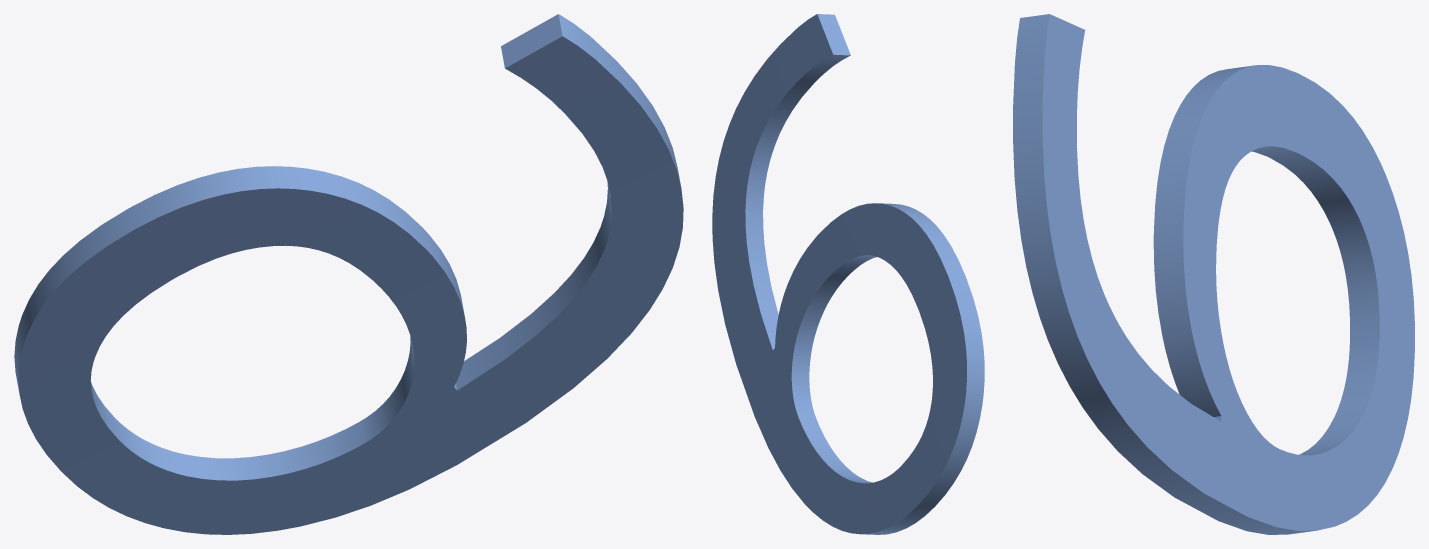
Rendered from New_Number_9.gltf.
3 renders of one model, left to right at view 1: azimuth 30°, elevation 25°; view 2: azimuth 150°, elevation 25°; view 3: azimuth 270°, elevation 25°, orthographic. The views are drawn at different scales.
Visible parts, largest first — view 1: Part 504; view 2: Part 504; view 3: Part 504.
Part boxes in pixels (x1,y1,x2,y2): Part 504: (14, 14, 683, 534); Part 504: (712, 14, 984, 534); Part 504: (1013, 14, 1414, 534).
Size of the model in its own units: 0.00458 by 0.00491 by 0.00304.
